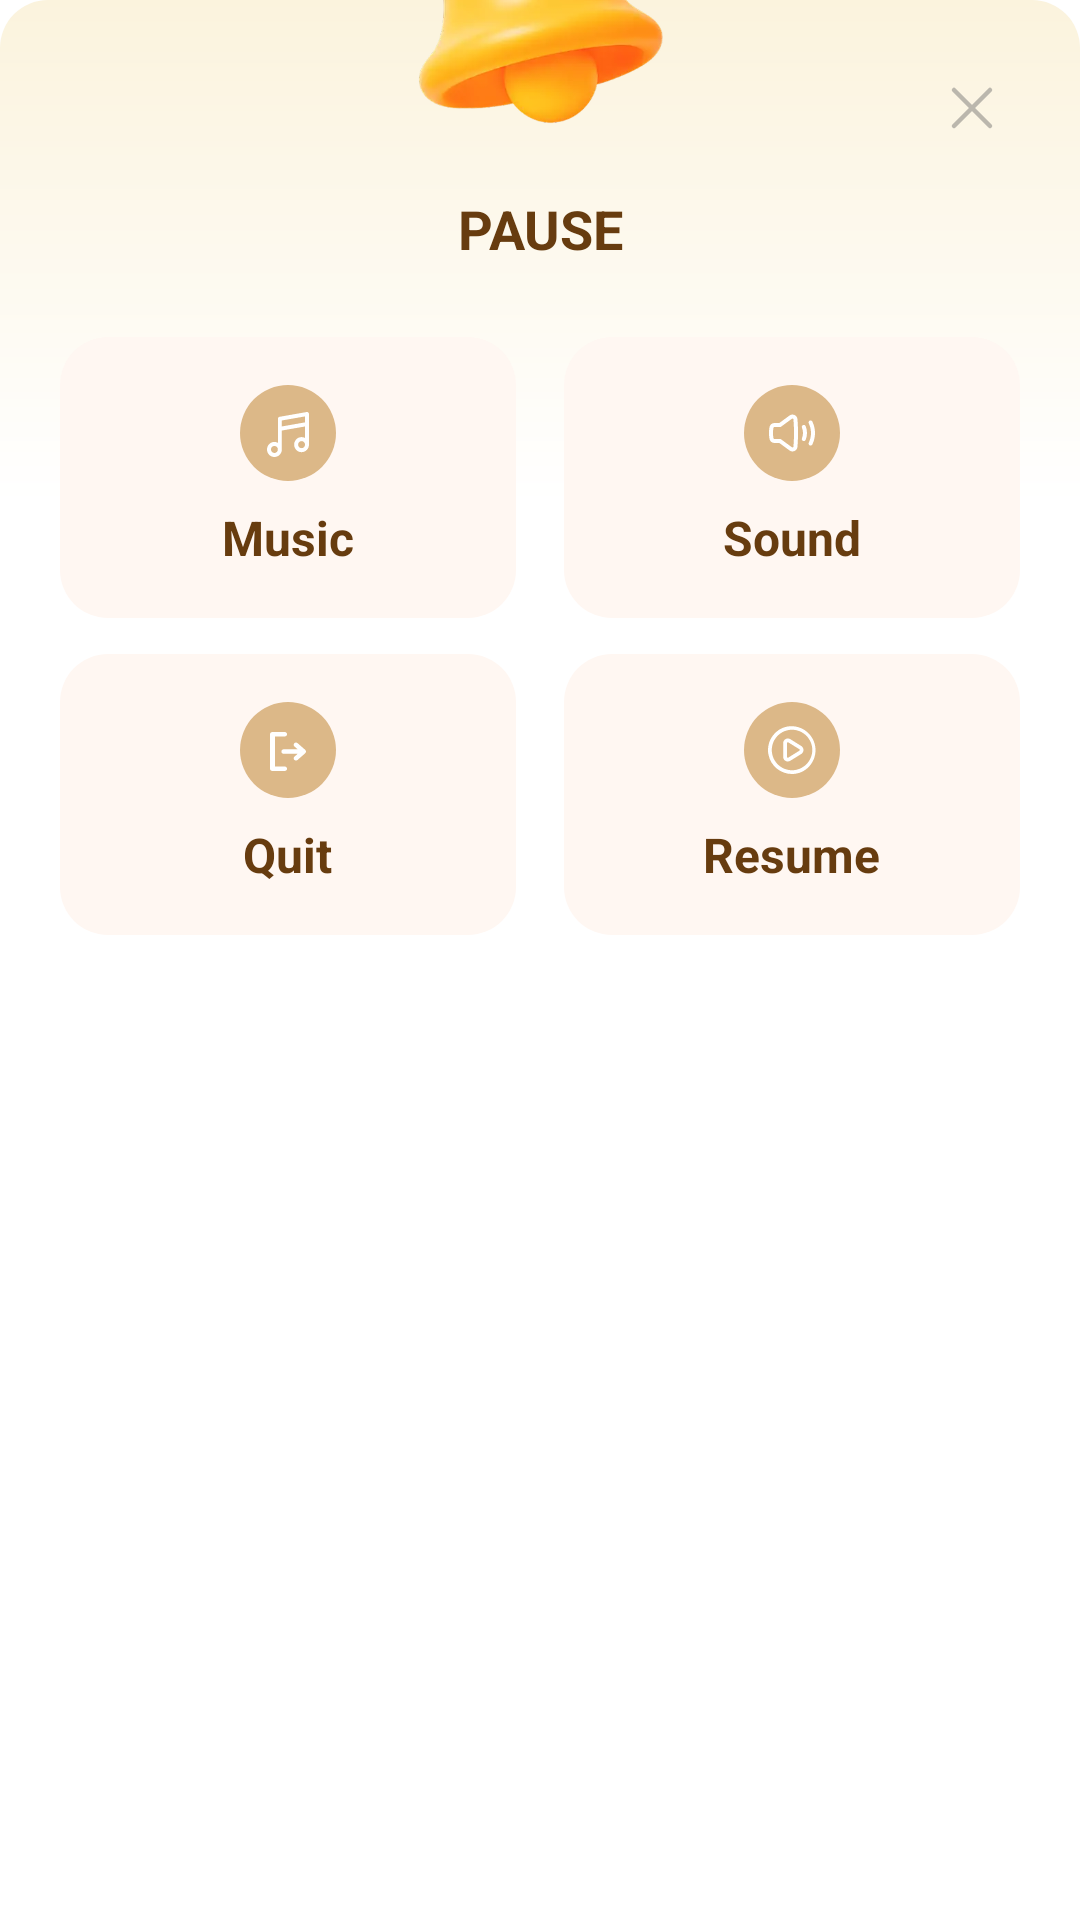

Named icons in this screenshot (1080w x 1920h) and their bounding boxes, (x1, y1, x2, y2):
cancel: (952, 88, 992, 128)
